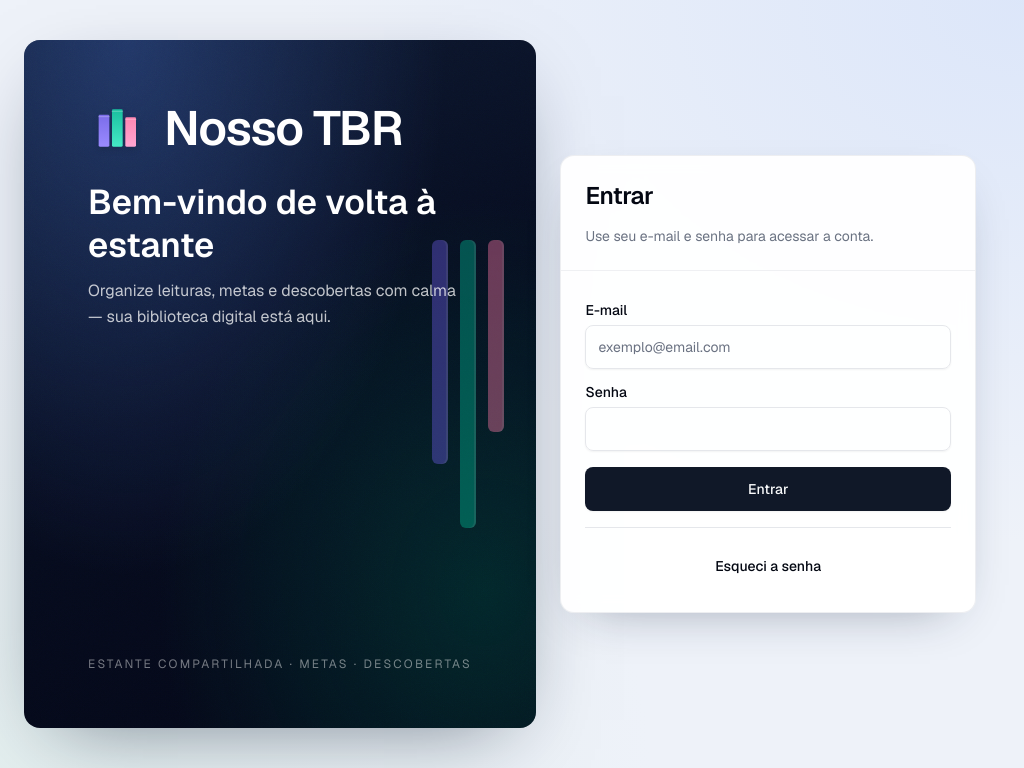
it: AuthPage › exibe mensagem de erro retornada por loginAction
This screenshot has width=1024, height=768.
Type "x@y.com" into the field named "email". click: (768, 347)
box: [585,325,951,369]
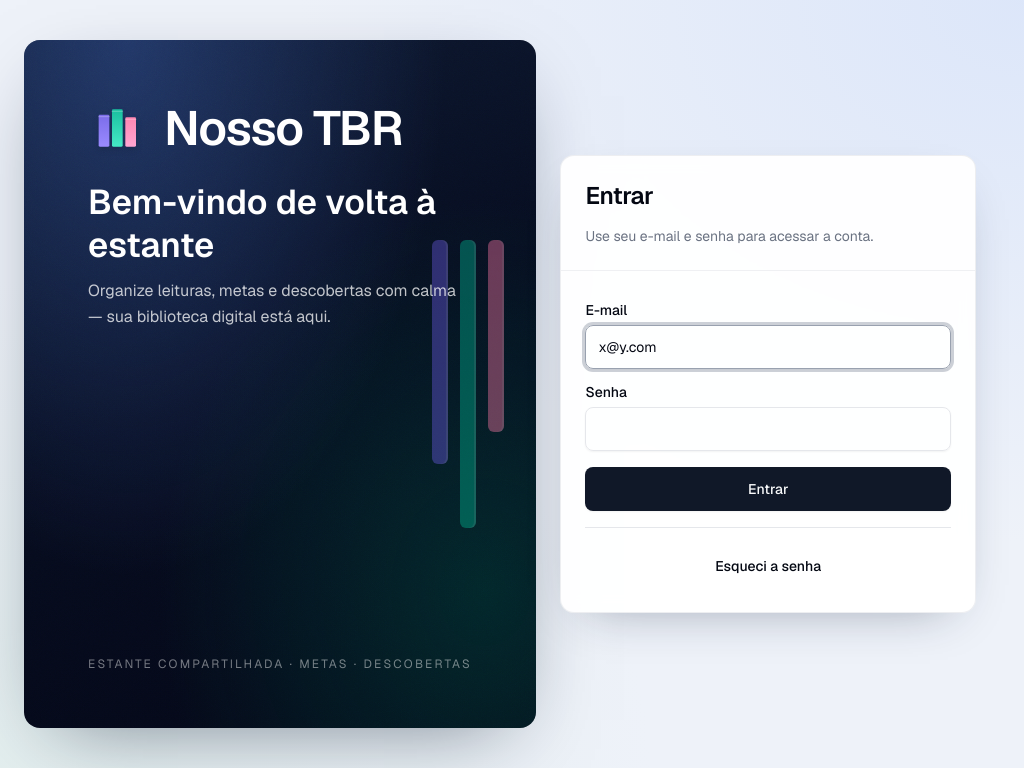
Type "qualquerCoisa1" into the password field named "Password". click: (768, 429)
box: [585,407,951,451]
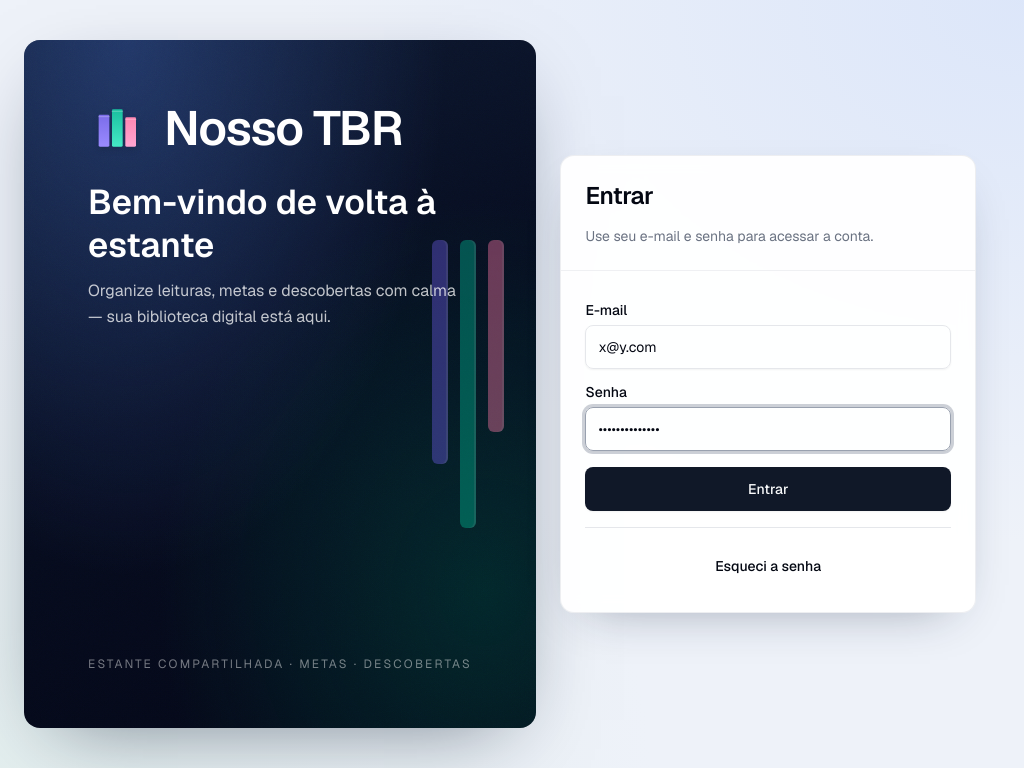
Click the button with aria-label "submit sign in". click: (768, 489)
box: [585,467,951,511]
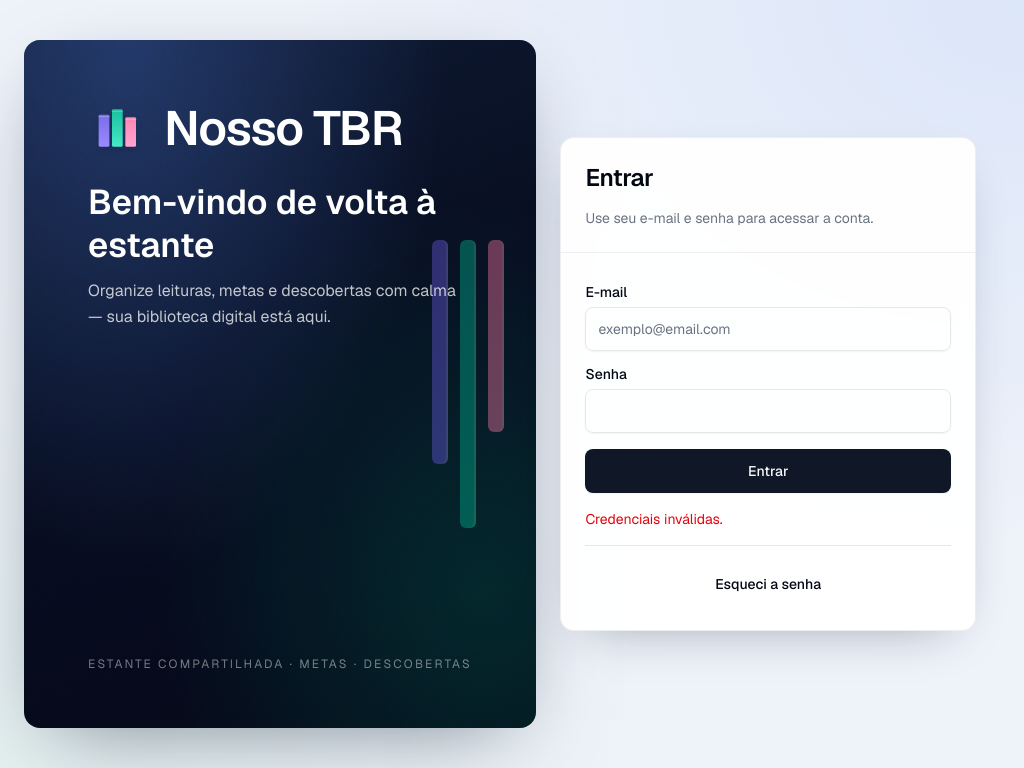
Now the message reads "Credenciais inválidas.", box [585,510,723,528]
